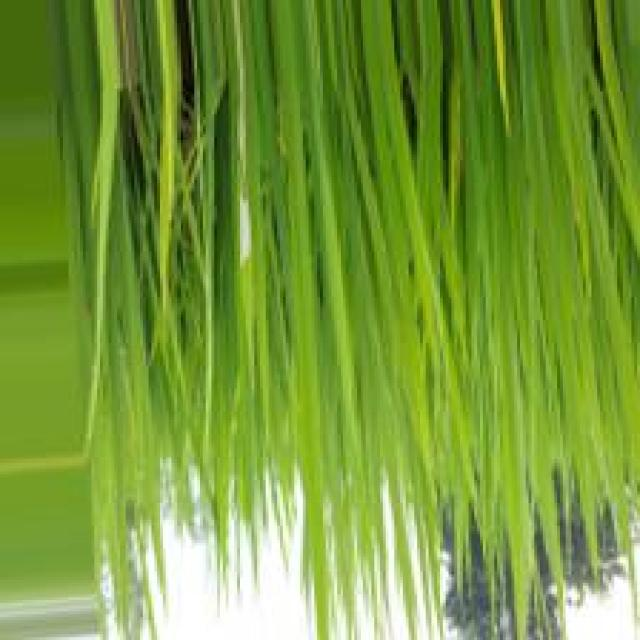HealthyLeaf: (528, 95, 574, 262), (549, 4, 581, 113), (362, 5, 399, 93), (469, 113, 497, 187)
